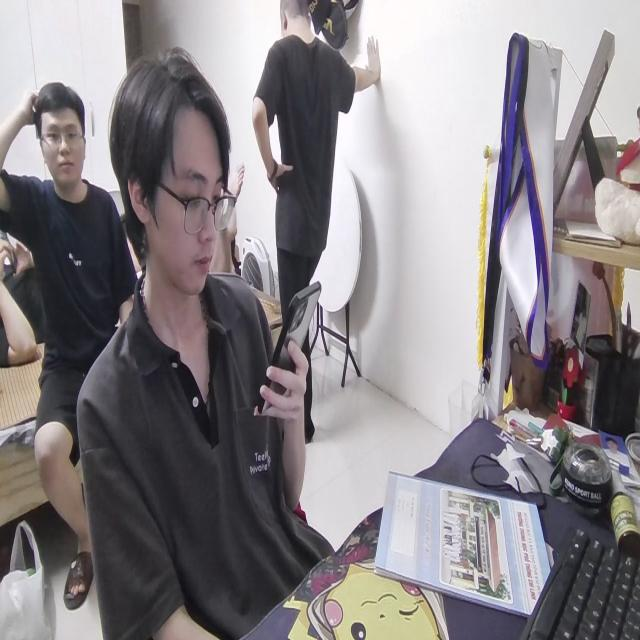book: (371, 463, 554, 619)
extra_person: (4, 78, 131, 568), (253, 0, 378, 337)
phone: (252, 277, 323, 413)
student: (74, 42, 326, 640)
